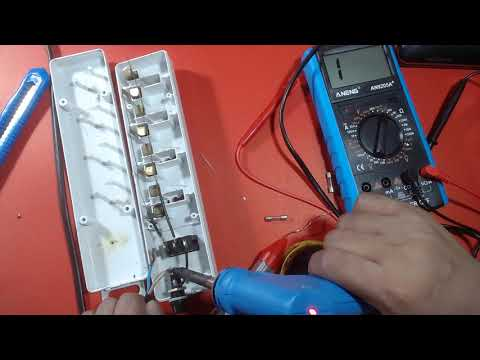Three_eye_plug: (108, 46, 222, 303)
